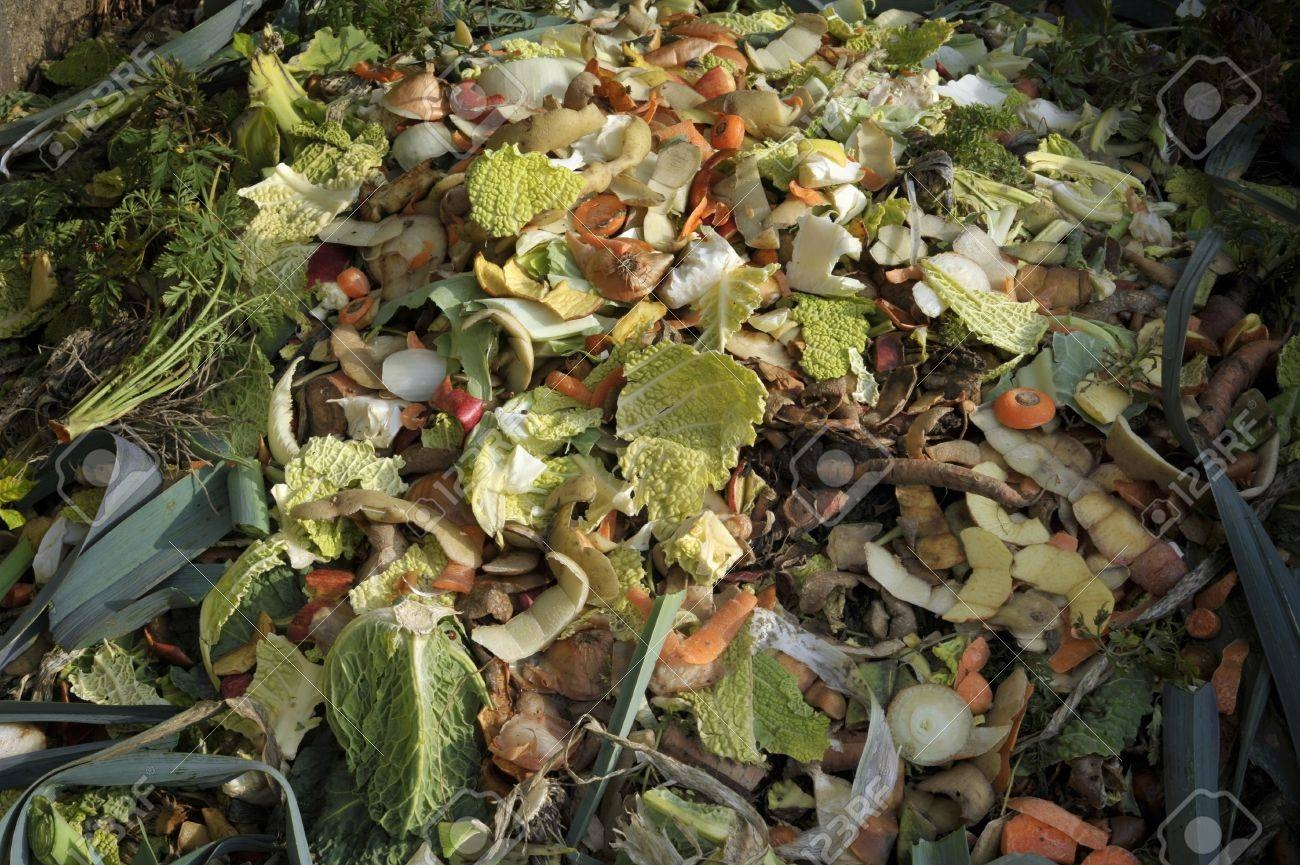kitchen_waste: (29, 198, 297, 451), (1, 692, 310, 865), (309, 592, 505, 843), (12, 466, 253, 654), (937, 108, 1175, 246), (614, 338, 776, 538), (529, 17, 759, 153), (221, 38, 389, 206), (844, 509, 1031, 634), (300, 194, 459, 321), (671, 652, 837, 769), (897, 241, 1059, 359), (459, 543, 598, 669), (455, 135, 595, 244), (930, 517, 1041, 638), (868, 666, 986, 774), (371, 62, 478, 170), (780, 193, 872, 312), (683, 251, 787, 348), (786, 286, 888, 382), (653, 507, 755, 582), (206, 443, 276, 551), (988, 375, 1065, 431)
